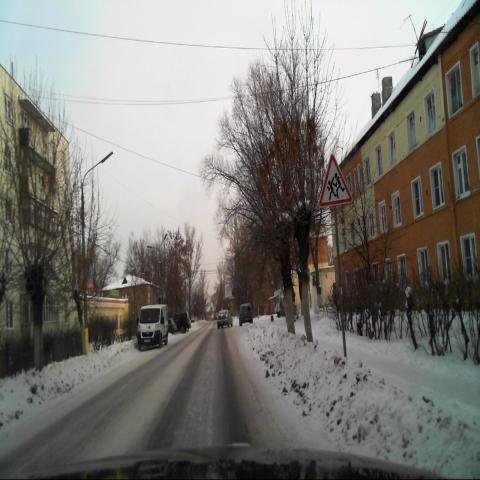1_23: (319, 152, 351, 207)
